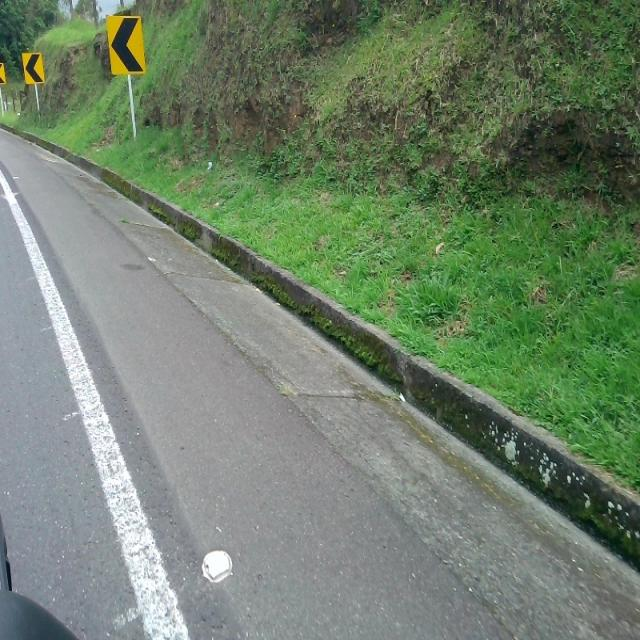DITCH: (1, 125, 638, 638)
